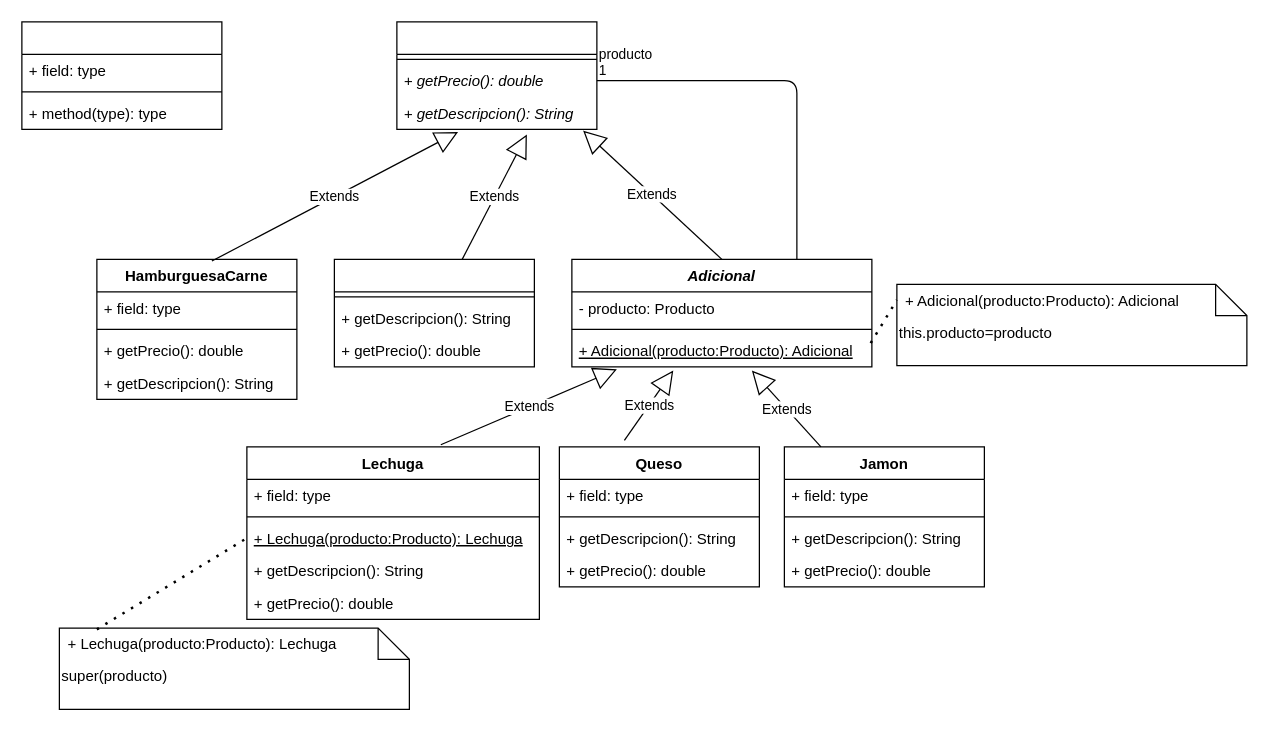
The diagram is 1269 pixels wide and 731 high, and some of its shapes have lost their labels. Here are the shapes that lost their labels. From the top down, the box of each, then its label:
(21, 21, 222, 129): Classname
(396, 21, 597, 129): Producto
(333, 258, 534, 367): HamburguesaPollo
